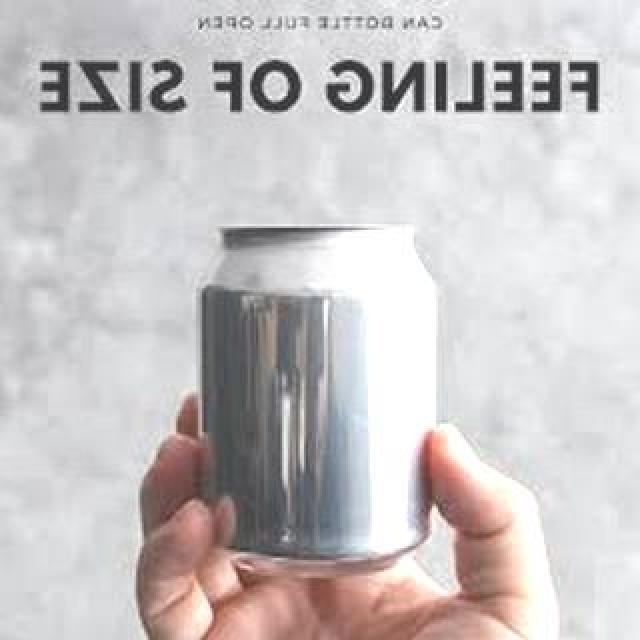Can: (198, 219, 434, 573)
